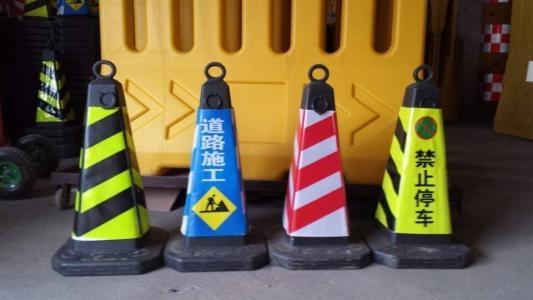cone_barrel: (52, 57, 158, 277), (364, 63, 472, 266), (167, 65, 258, 272), (270, 67, 362, 253), (28, 42, 72, 125)
